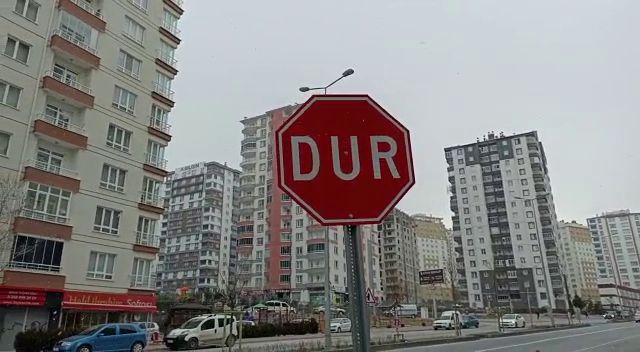stop: (272, 92, 418, 229)
